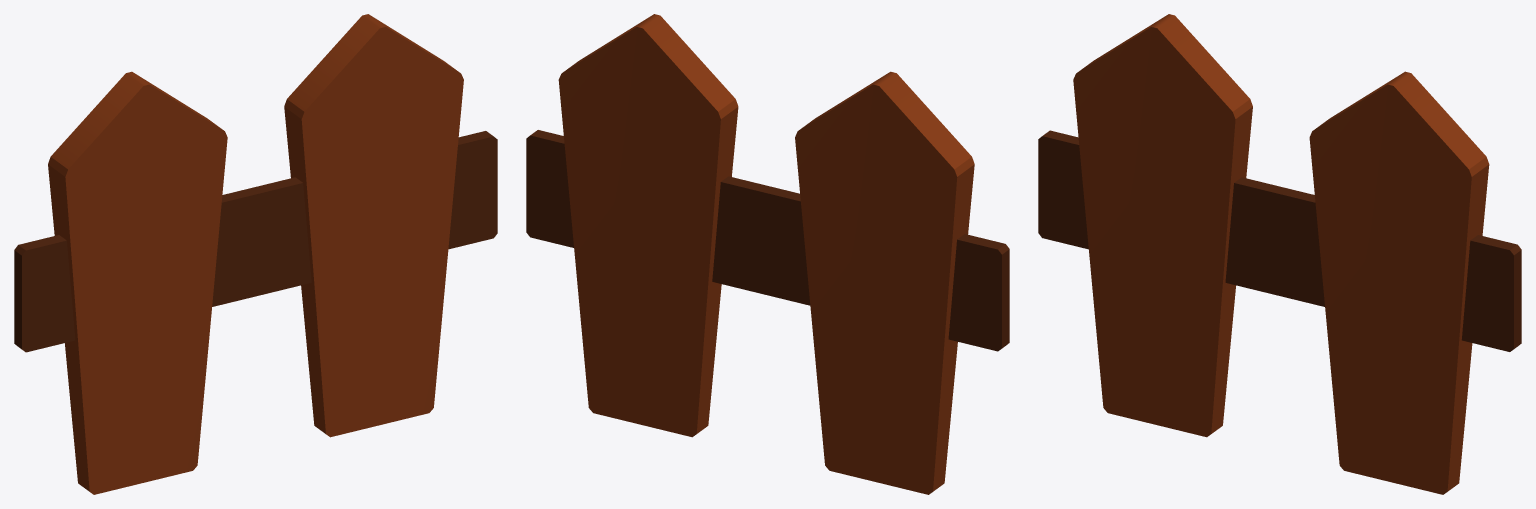
Rendered from Barda.fbx.
3 views of the same model, side by side, from view 1: azimuth 30°, elevation 25°; view 2: azimuth 150°, elevation 25°; view 3: azimuth 330°, elevation 25° (orthographic).
Visible parts, largest first — view 1: barda2, barda1, unionBarda; view 2: barda2, barda1, unionBarda; view 3: barda1, barda2, unionBarda.
Boxes of the visible parts, <box> form: barda2: <box>284,14,463,437</box>; barda1: <box>48,71,227,494</box>; unionBarda: <box>14,131,497,352</box>; barda2: <box>558,14,738,437</box>; barda1: <box>795,71,974,494</box>; unionBarda: <box>526,130,1009,351</box>; barda1: <box>1073,14,1252,437</box>; barda2: <box>1309,71,1489,494</box>; unionBarda: <box>1038,130,1521,351</box>.
Bounding box in the file's own units: 47.49 × 38.13 × 3.04.
